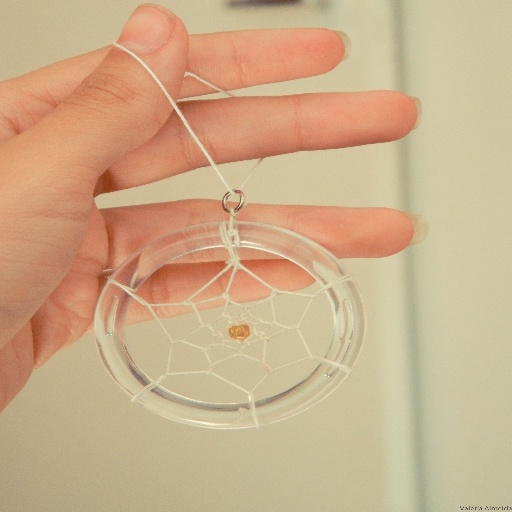hand: (36, 30, 423, 413)
